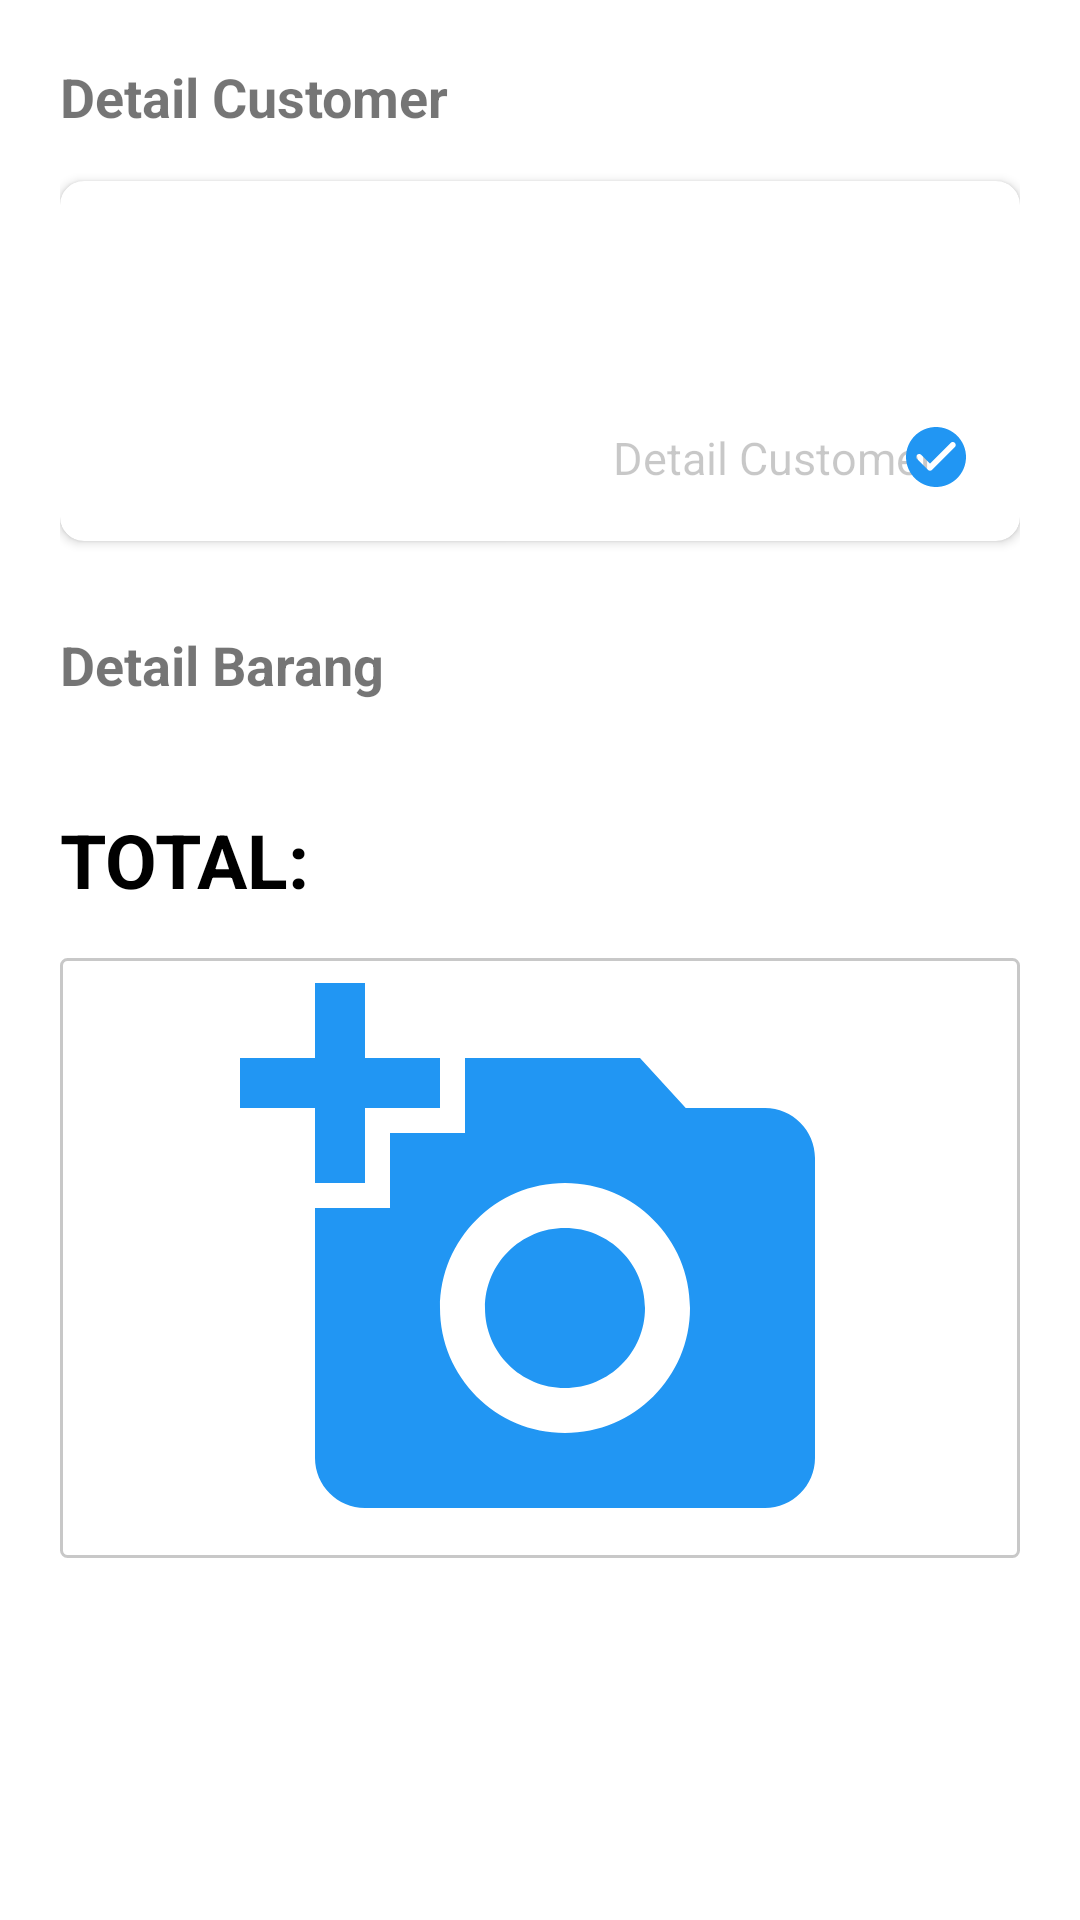

Screen size 1080 × 1920. Icon name, then its center in pixels as (x,y):
check circle: (933,457)
